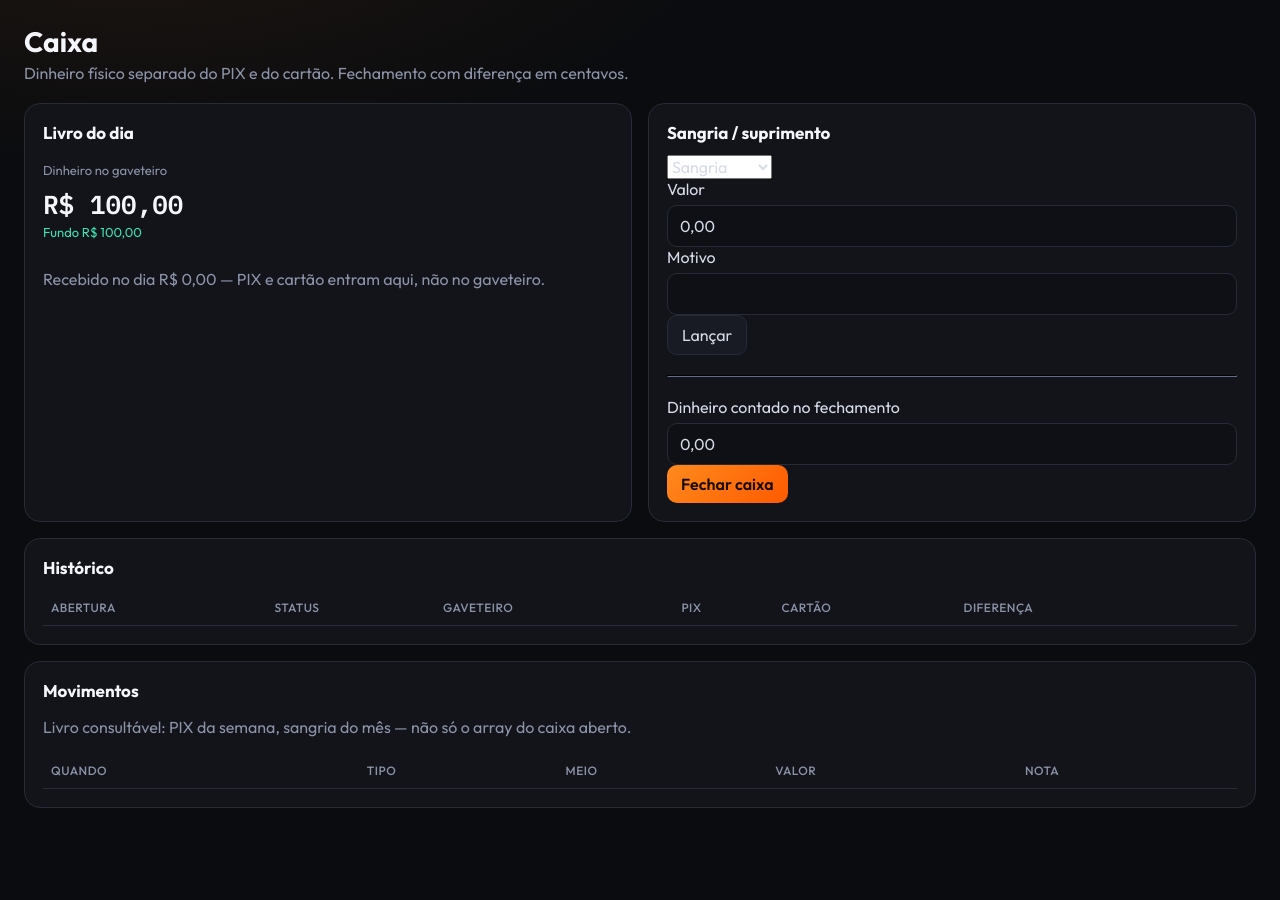
Test: Caixa › mostra erro de sangria com o caixa aberto
Click the button "Lançar" at (707, 335), box [667, 315, 747, 355]
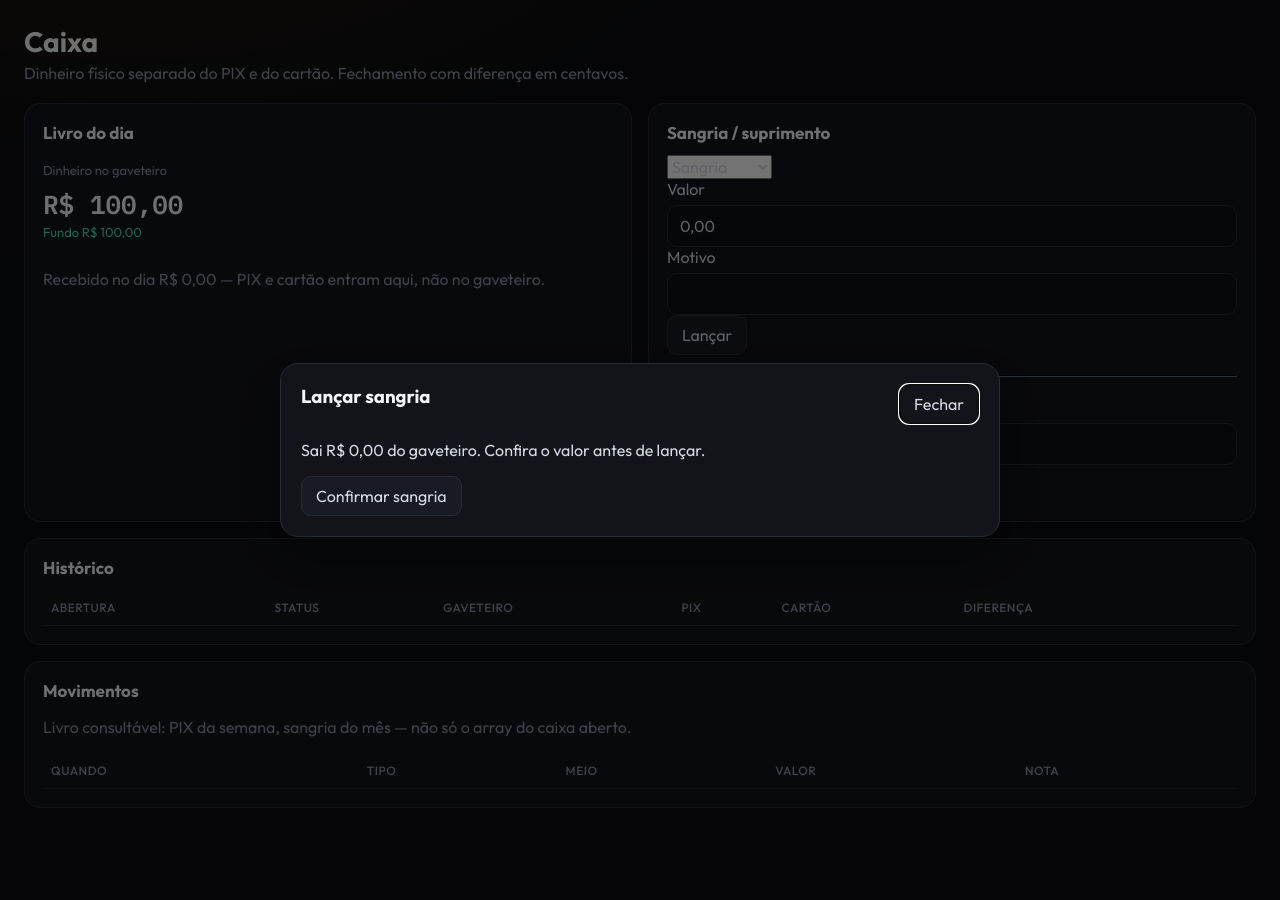
Click the button "Confirmar sangria" at (381, 496), box [301, 476, 462, 516]
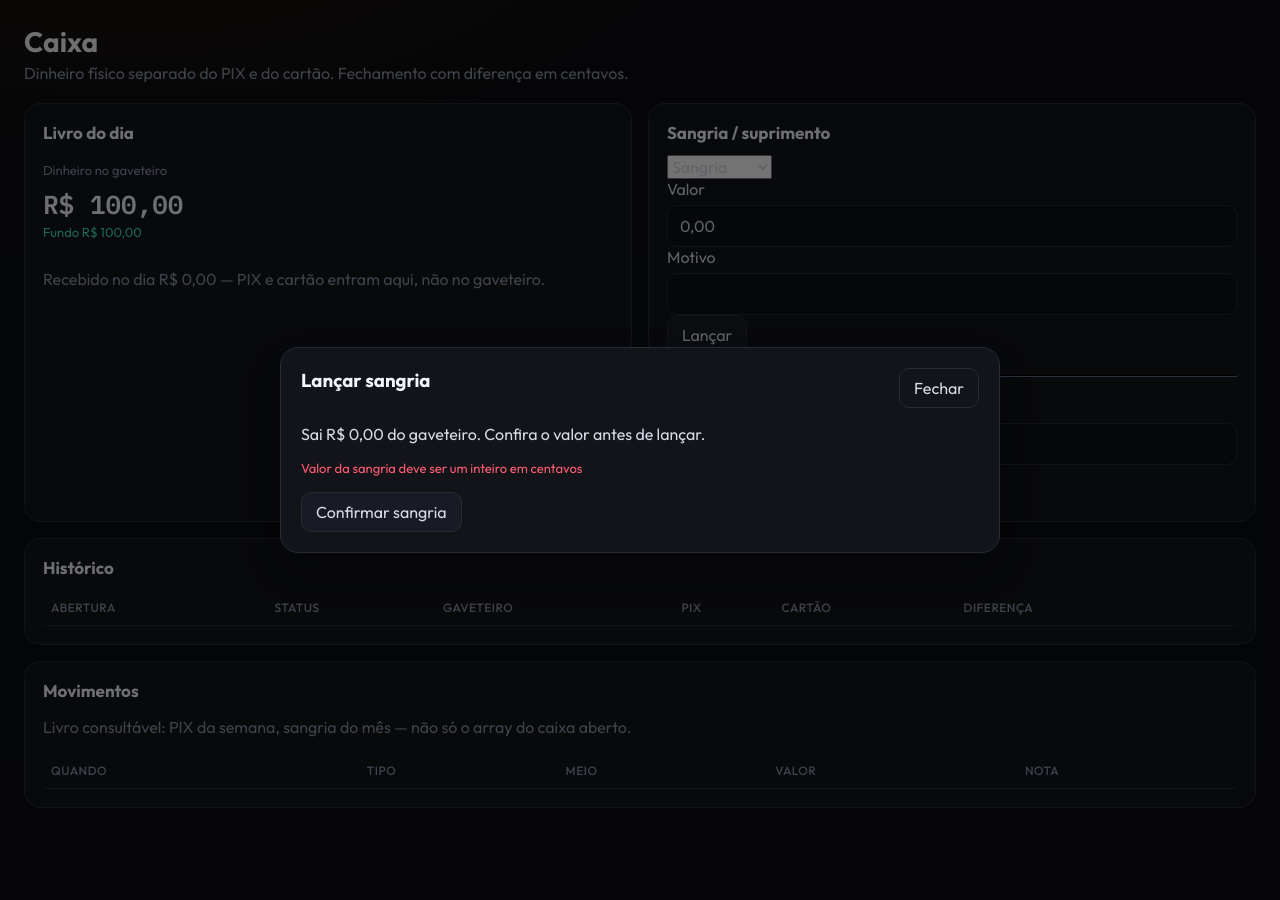
Expected: the message shows "sangria", [301, 460, 582, 476]
